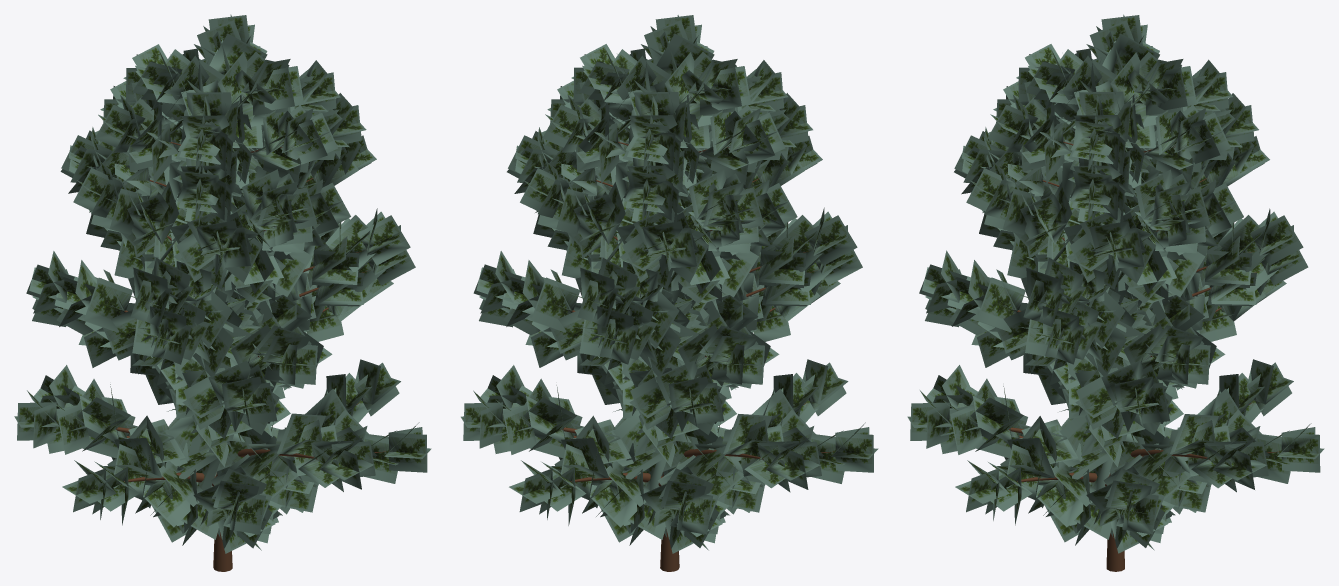
The model's file is pine_tree_10m.gltf.
3 renders of one model, left to right at view 1: azimuth 30°, elevation 25°; view 2: azimuth 150°, elevation 25°; view 3: azimuth 270°, elevation 25°, orthographic.
Visible parts, largest first — view 1: root; view 2: root; view 3: root.
Boxes of the visible parts, x1,y1,x2,y2 form: root: (14,14,431,571); root: (461,15,878,571); root: (907,14,1324,571).
Size of the model in its own units: 7.75 by 10.76 by 7.73.
2 materials, 1 textured.
